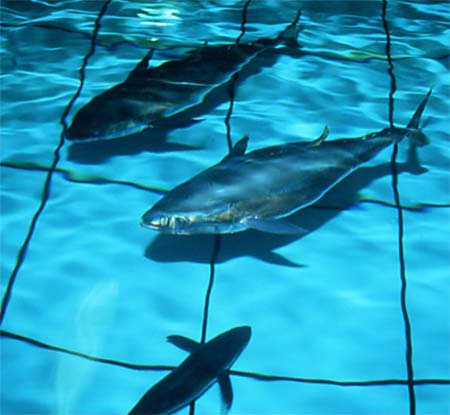Bluefina Tuna: (130, 85, 426, 323)
